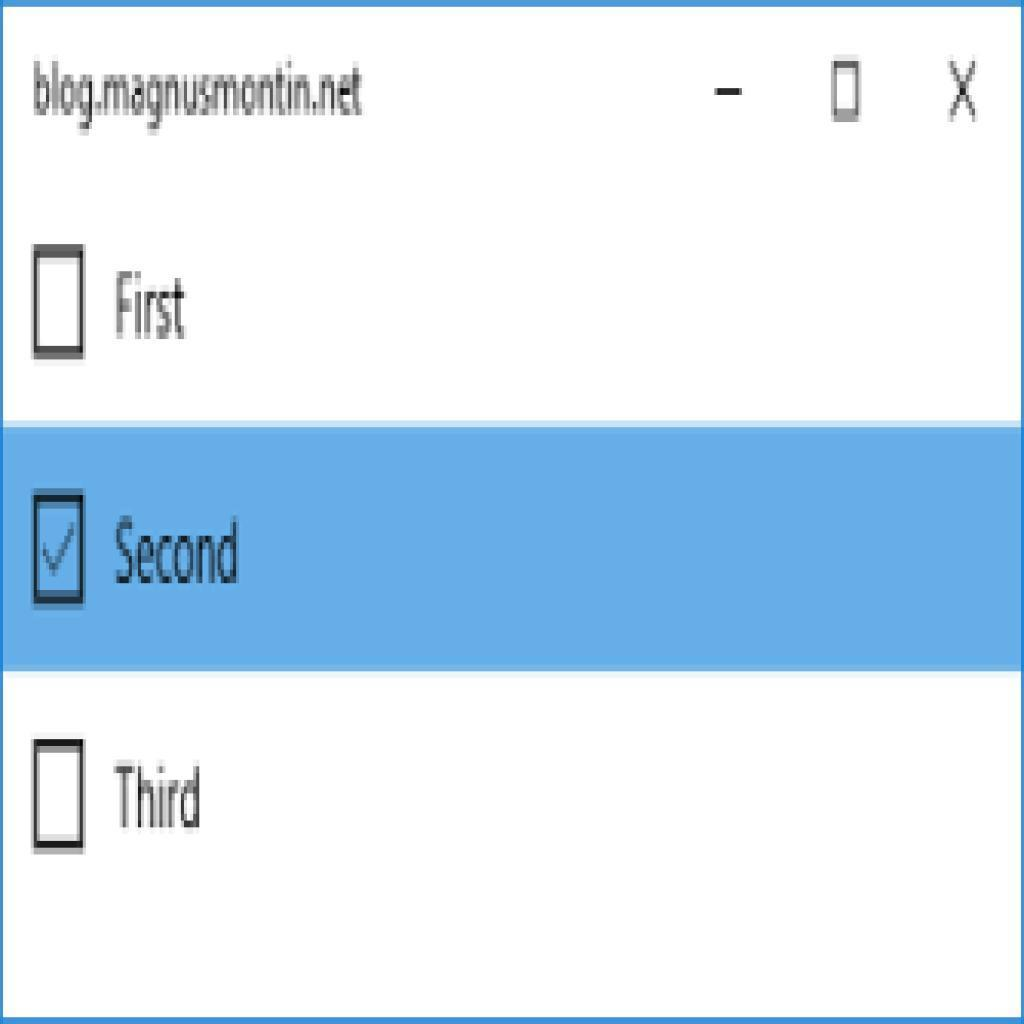checkbox: (34, 244, 87, 360), (33, 738, 86, 853), (35, 494, 85, 607)
icon: (820, 54, 879, 131), (945, 55, 984, 129), (708, 68, 752, 108)
label: (114, 512, 250, 596), (105, 747, 212, 836), (105, 268, 194, 349)
